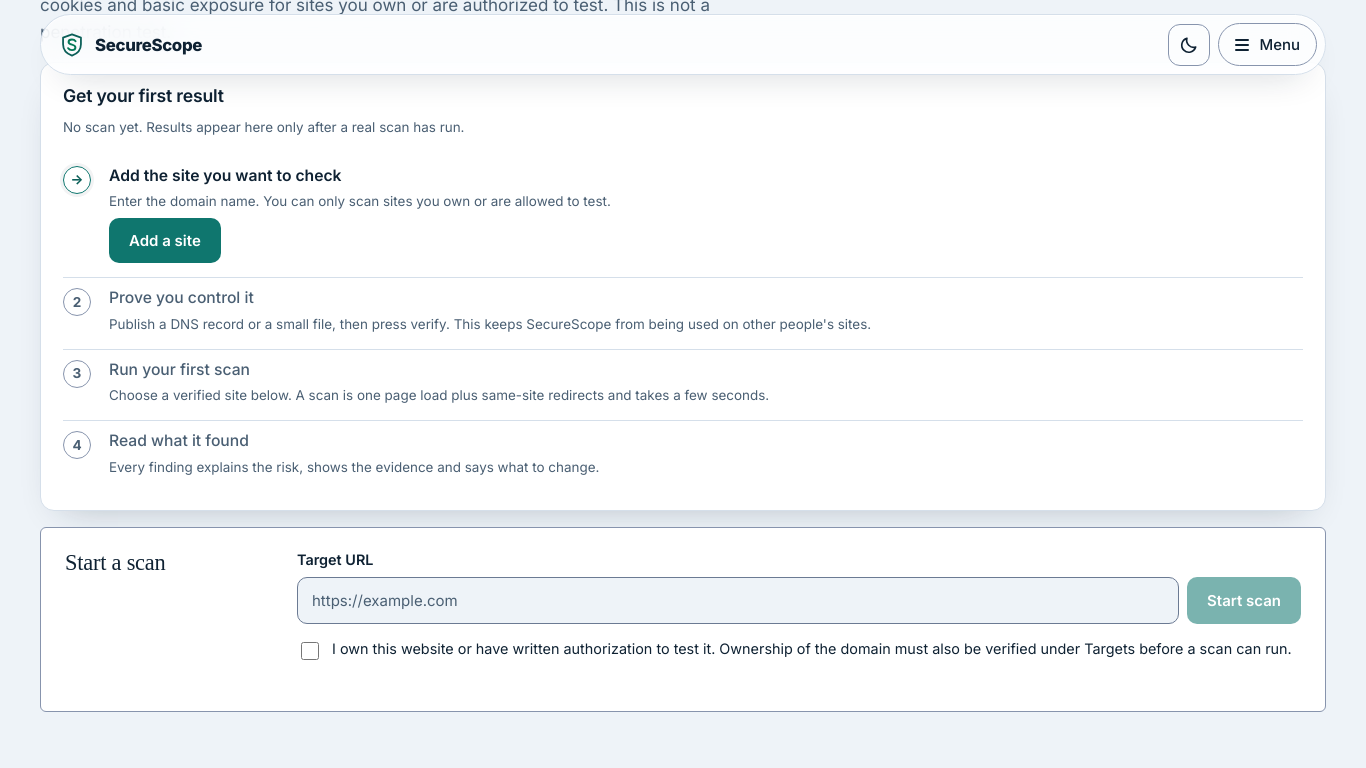
Test: Targets › points to Targets when a scan is refused because ownership is unverified
(page scrolled)
Type "https://example.org" into the field labelled "Target URL" at coordinates (738, 601), box [297, 577, 1179, 624]
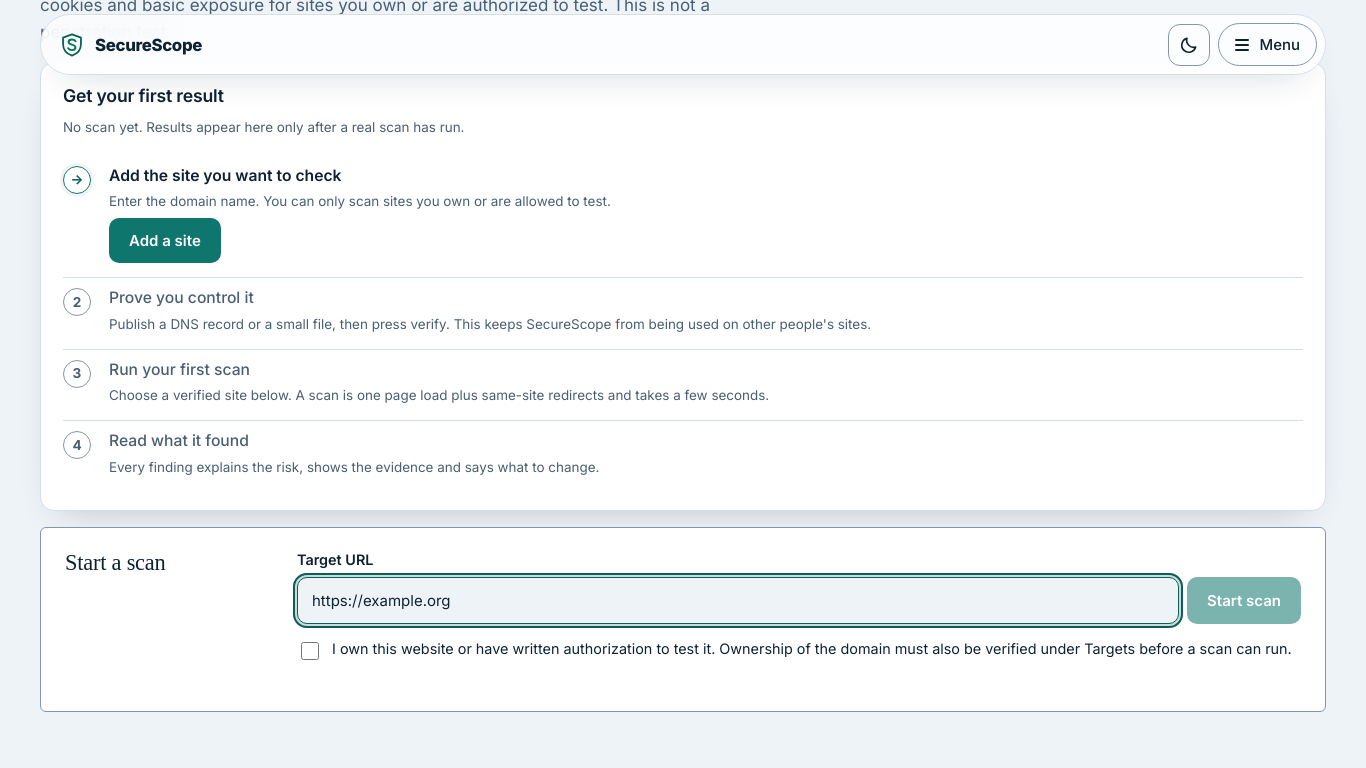
Click the checkbox at coordinates (310, 651), box [301, 642, 319, 660]
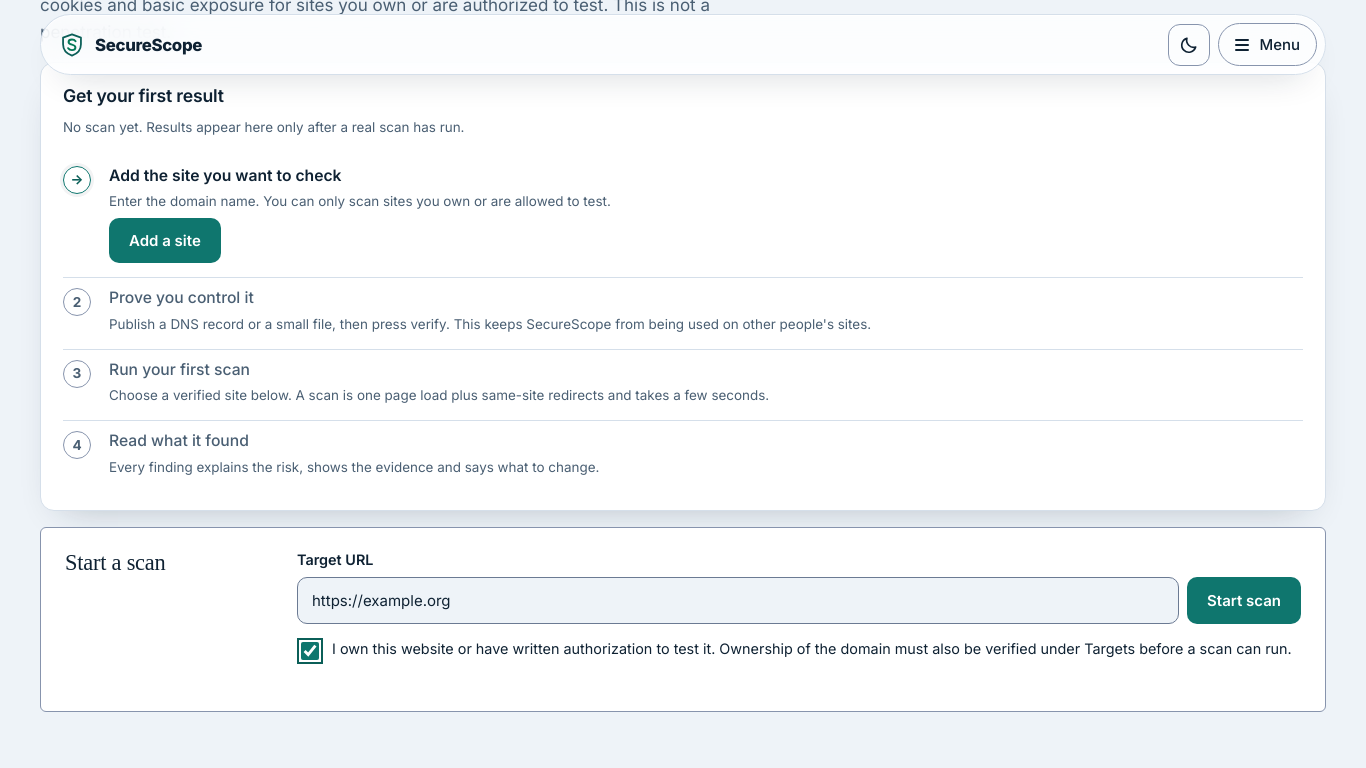
Click the button "Start scan" at coordinates (1244, 601), box [1187, 577, 1301, 624]
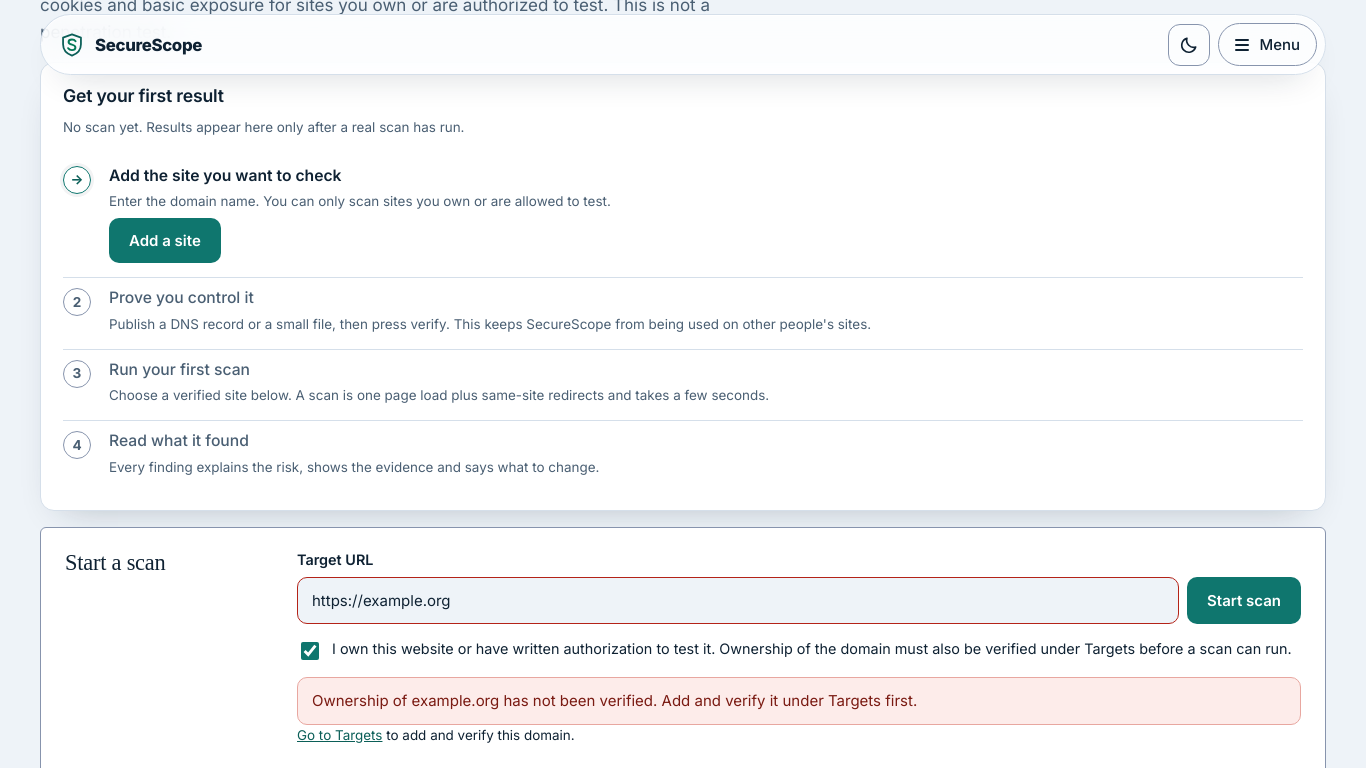
Check: the message shows "has not been verified", box [312, 691, 917, 710]
